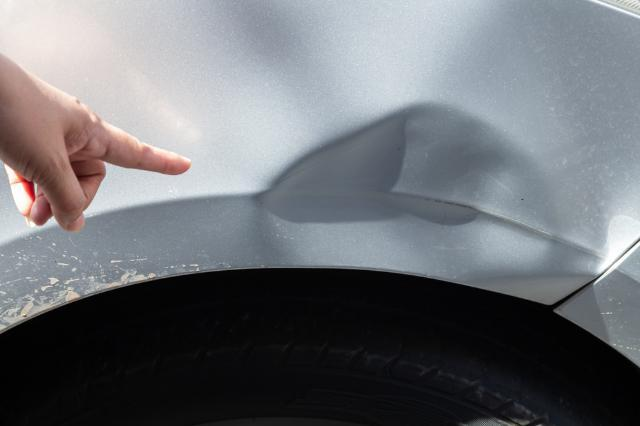dent: (252, 99, 556, 282)
scratch: (0, 239, 220, 337)
